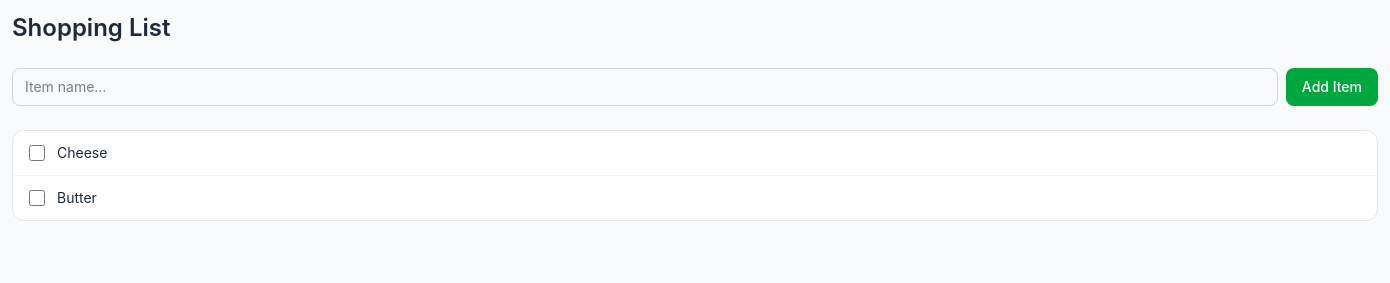
Test: ShoppingList › allows manual addition of new items
In the field: [645, 87] box [12,68,1278,106], type "Milk"
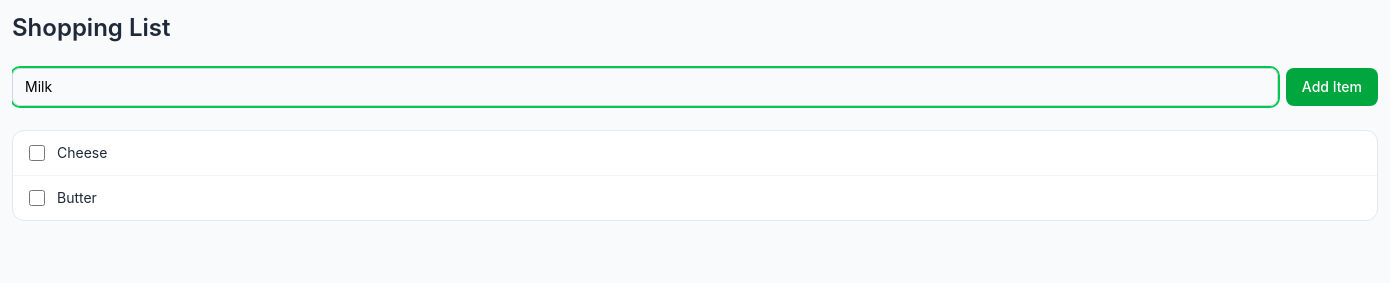
Click the button "Add Item": [1332, 87] box [1286,68,1378,106]
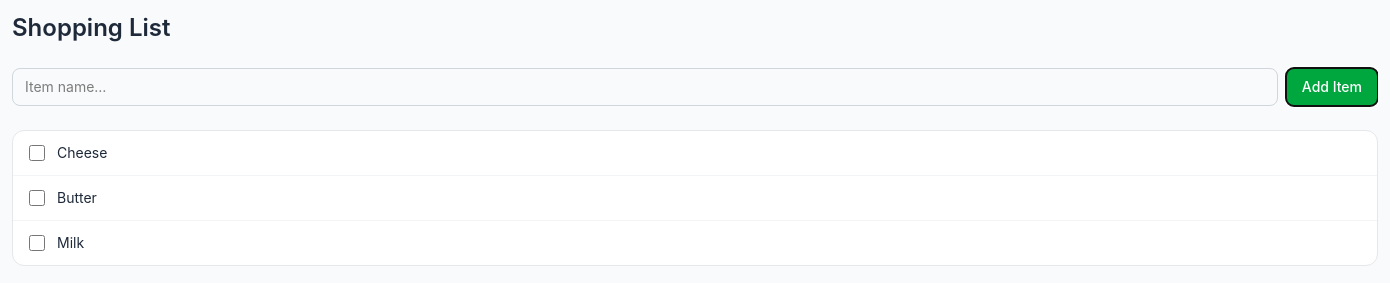
Expected: the text "Milk" is shown, [57,234,84,251]
Expected: the number of checkboxes is 3, [29,145,45,161]; [29,190,45,206]; [29,235,45,251]
